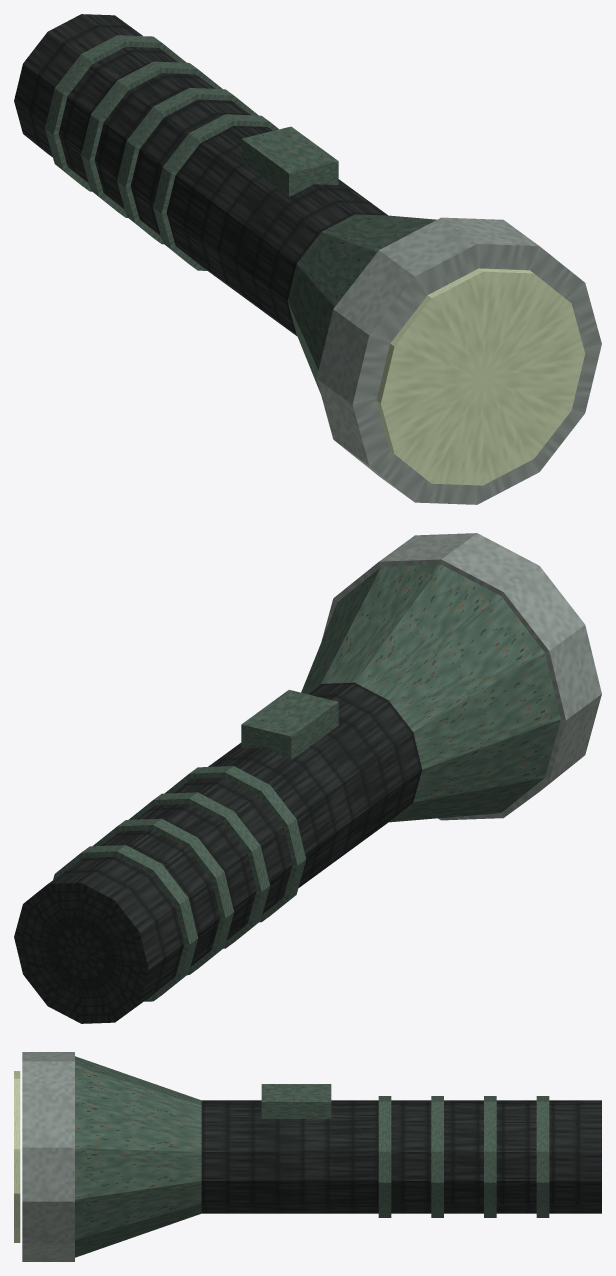
Rendered from Flashlight.obj.
3 renders of one model, top to bottom at view 1: azimuth 30°, elevation 25°; view 2: azimuth 150°, elevation 25°; view 3: azimuth 270°, elevation 25°, orthographic. The views are drawn at different scales.
Parts seen in each view (by area): view 1: Flashlight; view 2: Flashlight; view 3: Flashlight.
Part boxes in pixels (x1,y1,x2,y2): Flashlight: (14,14,601,504); Flashlight: (14,533,601,1023); Flashlight: (14,1052,601,1261).
Bounding box in the file's own units: 0.1 × 0.1 × 0.279.
4 materials, 4 textured.
